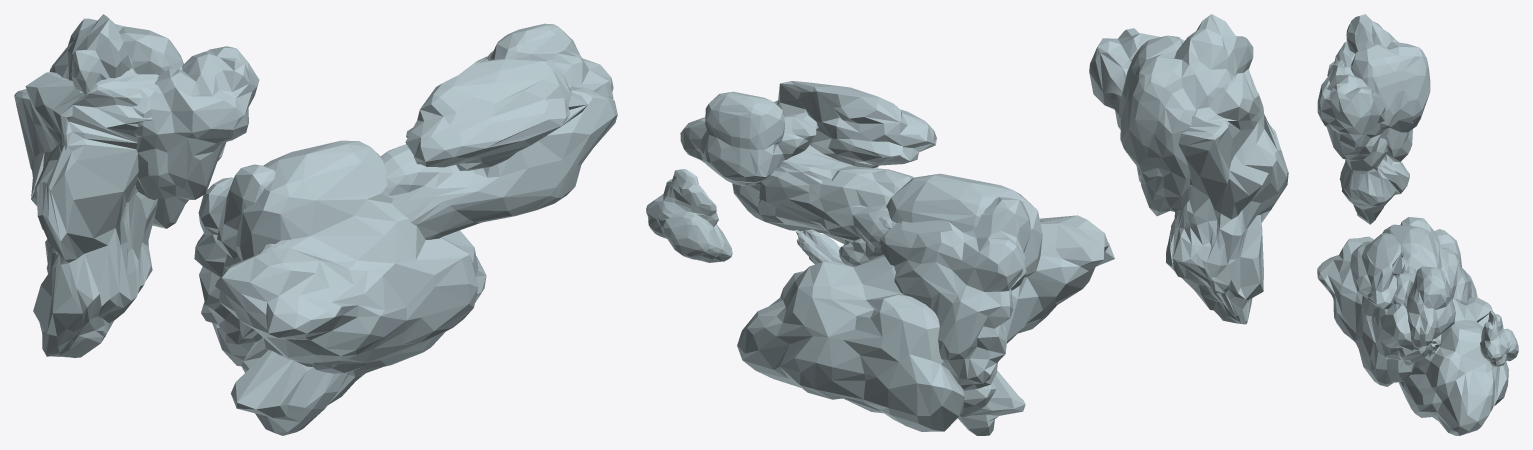
File: Cloud_Ring_06.fbx
3 views of the same model, side by side, from view 1: azimuth 30°, elevation 25°; view 2: azimuth 150°, elevation 25°; view 3: azimuth 270°, elevation 25° (orthographic). The views are drawn at different scales.
Parts seen in each view (by area): view 1: Cloud_Ring_06; view 2: Cloud_Ring_06; view 3: Cloud_Ring_06.
Part boxes in pixels (x1,y1,x2,y2): Cloud_Ring_06: (14, 14, 617, 435); Cloud_Ring_06: (646, 14, 1288, 435); Cloud_Ring_06: (1317, 14, 1518, 435).
Bounding box in the file's own units: 39.02 × 29.5 × 16.93.
